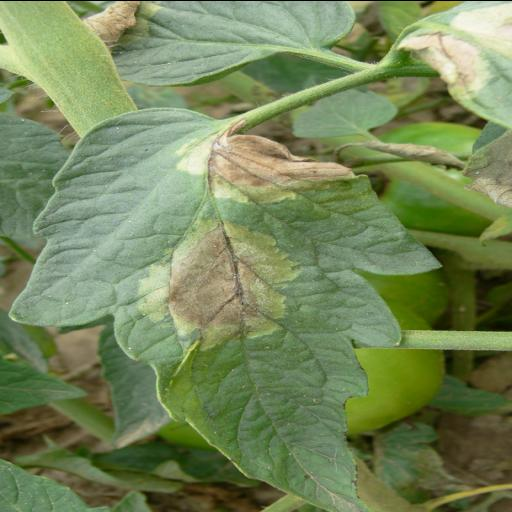Late Blight: (10, 105, 446, 512)
